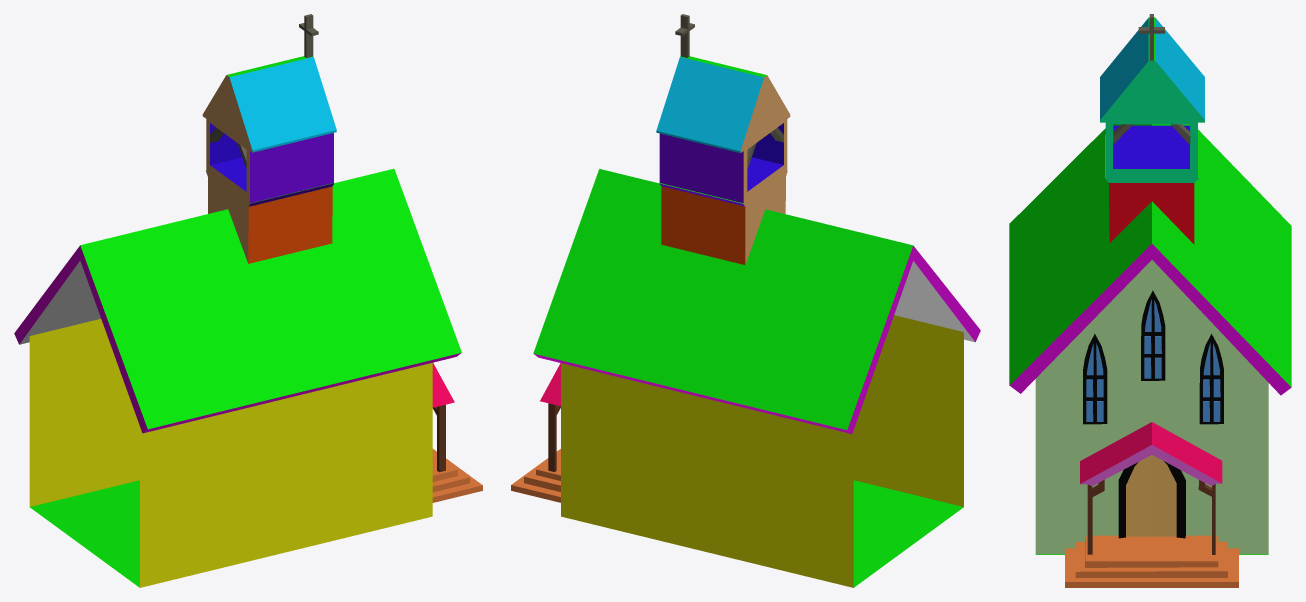
Rendered from kosciol1_bez_tylu.fbx.
The picture shows the model from 3 angles, left to right: view 1: azimuth 30°, elevation 25°; view 2: azimuth 150°, elevation 25°; view 3: azimuth 270°, elevation 25°; orthographic projection. The views are drawn at different scales.
Visible parts, largest first — view 1: Plane.013, Plane.001; view 2: Plane.013, Plane.001; view 3: Plane.013, Plane.001, Plane.002.
Boxes of the visible parts, <box> form: Plane.013: <box>14,14,461,587</box>; Plane.001: <box>432,363,482,502</box>; Plane.013: <box>533,14,980,587</box>; Plane.001: <box>511,363,560,502</box>; Plane.013: <box>1009,14,1291,554</box>; Plane.001: <box>1035,260,1268,587</box>; Plane.002: <box>1118,455,1185,538</box>.
Bounding box in the file's own units: 3.78 × 4.78 × 2.43.
